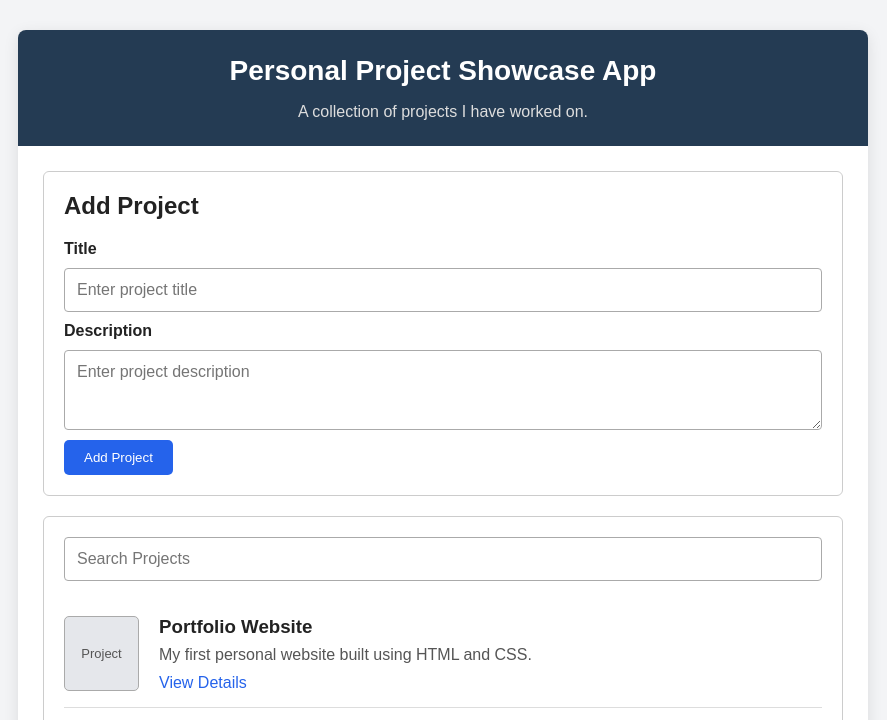
Test: adds a new project
This screenshot has width=887, height=720.
Type "New Project" into the field labelled "Title" at (443, 290), box [64,268,822,312]
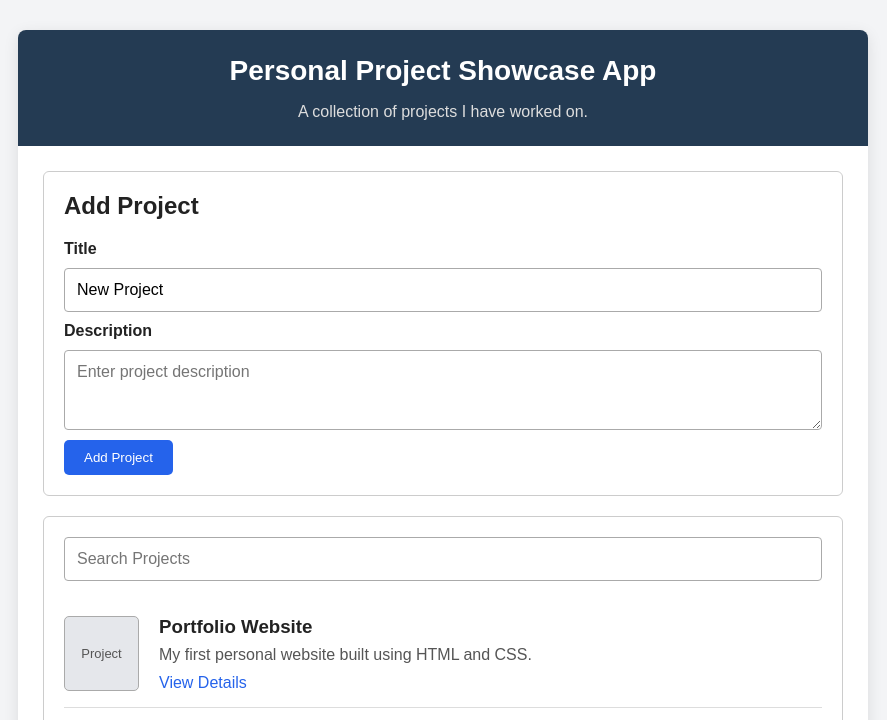
Type "My new project description" into the text box labelled "Description" at (443, 390), box [64,350,822,430]
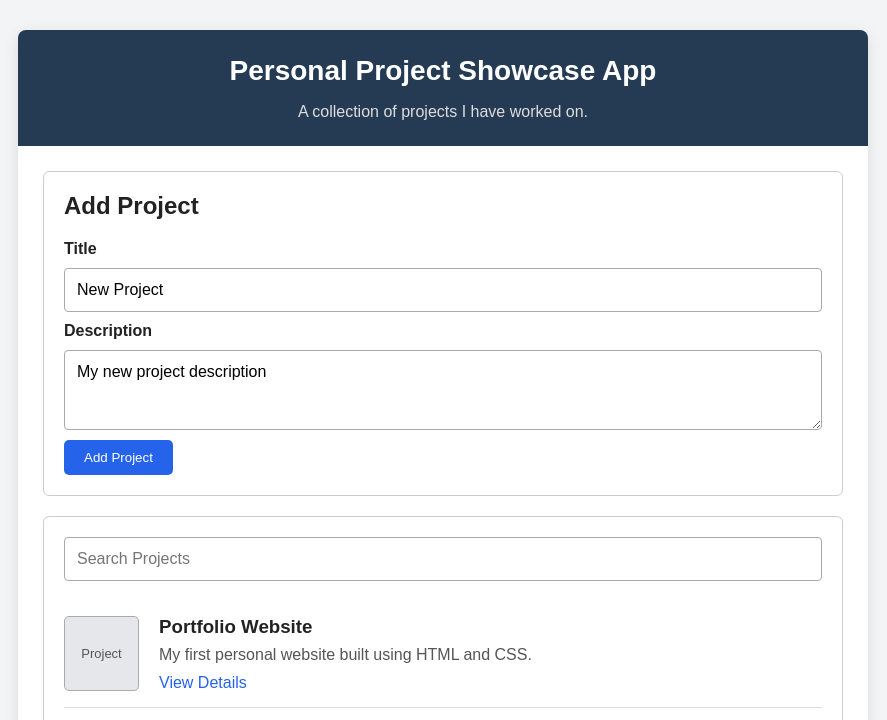
Click the button "Add Project" at (118, 457), box [64,440,173,475]
(page scrolled)
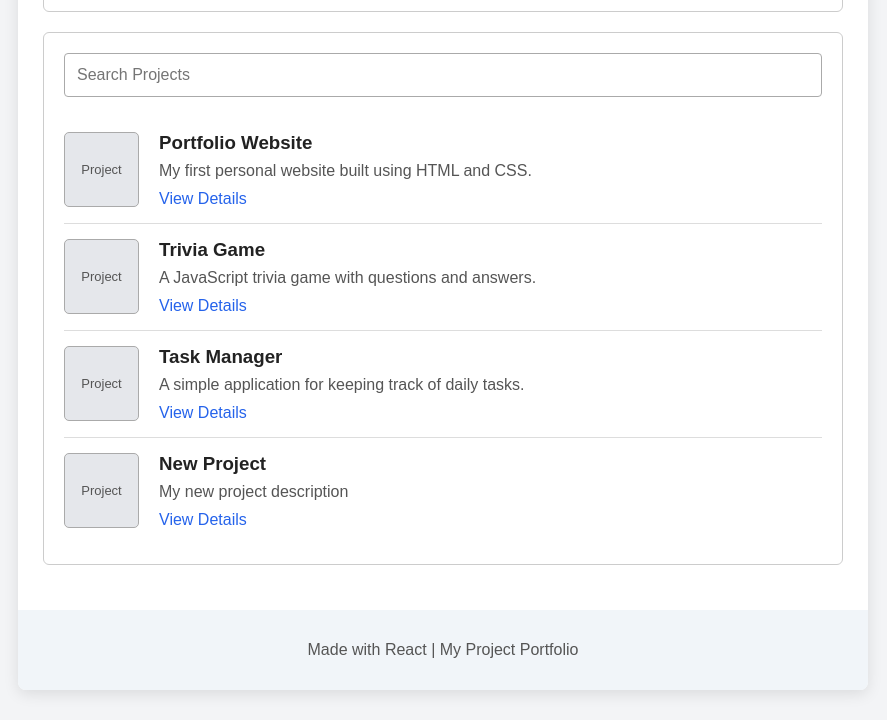
Expected: the heading "New Project" is shown, [159,453,266,474]
